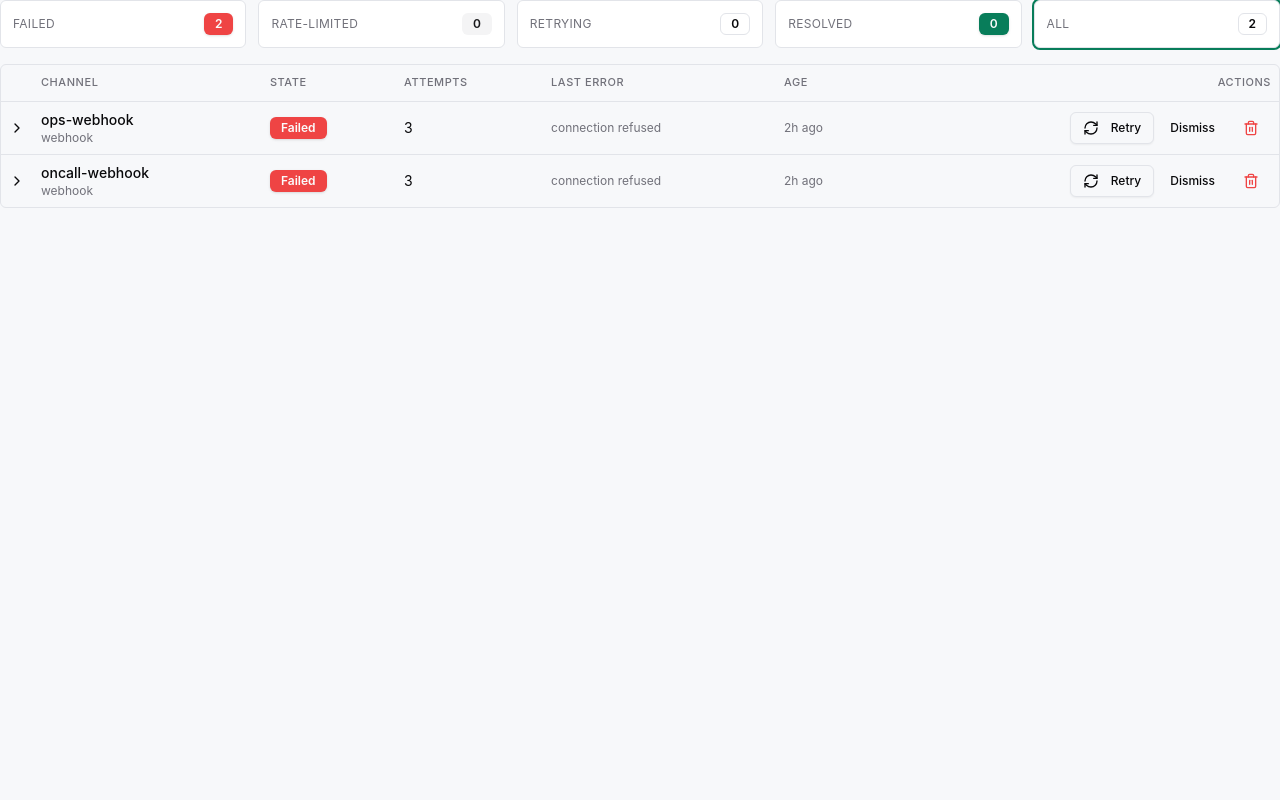
Test case: NotificationDLQTable — delete › Cancel sends nothing
Click the button named "Delete failed notification to oncall-webhook from 2h ago" at [1251, 180], box [1231,164,1271,196]
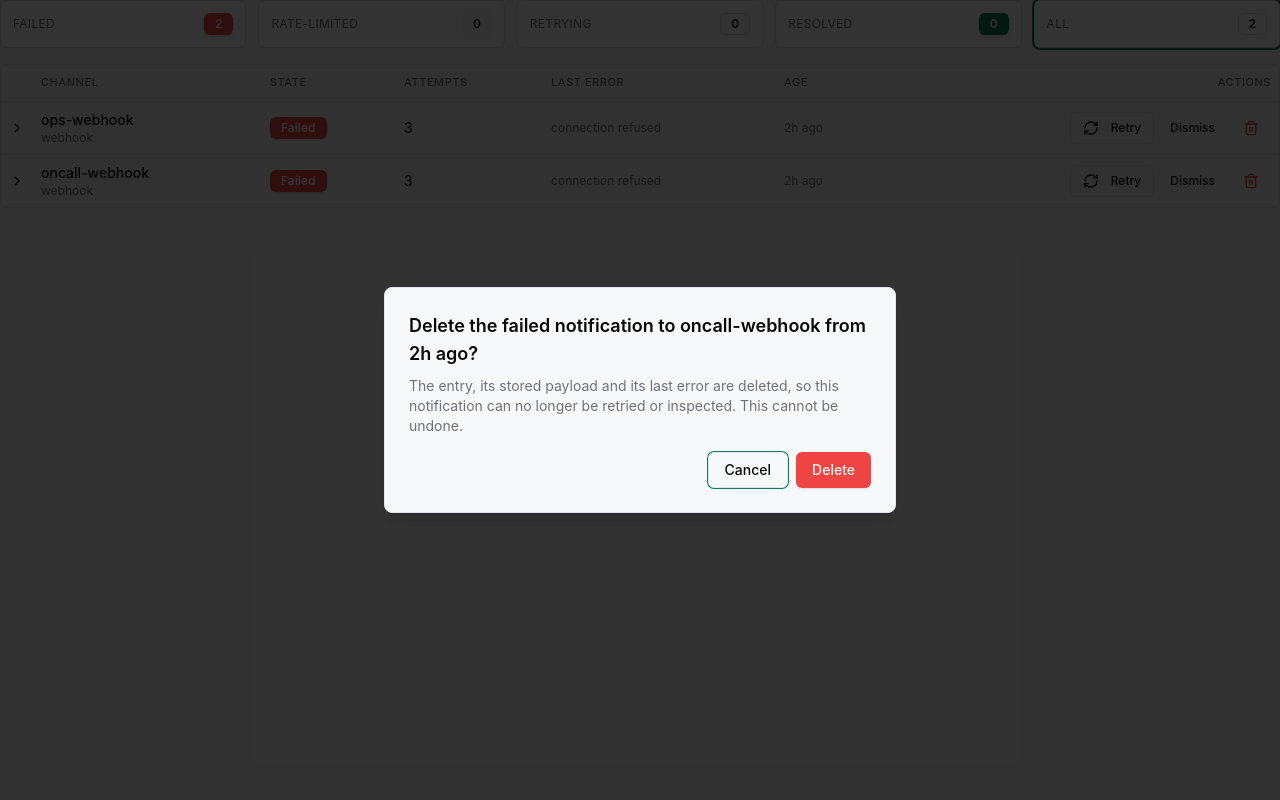
Click the button "Cancel" at [748, 470], box [708,452,788,488]
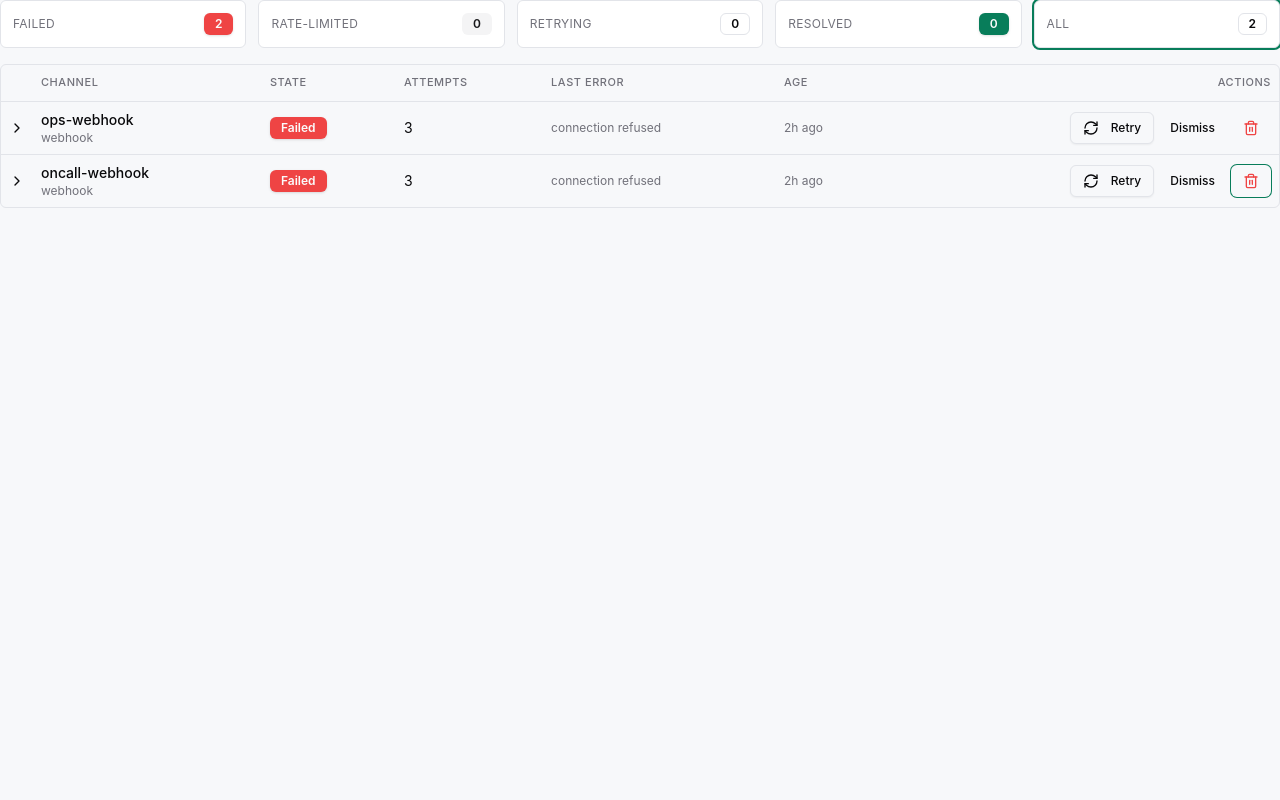
Now the dialog is gone
